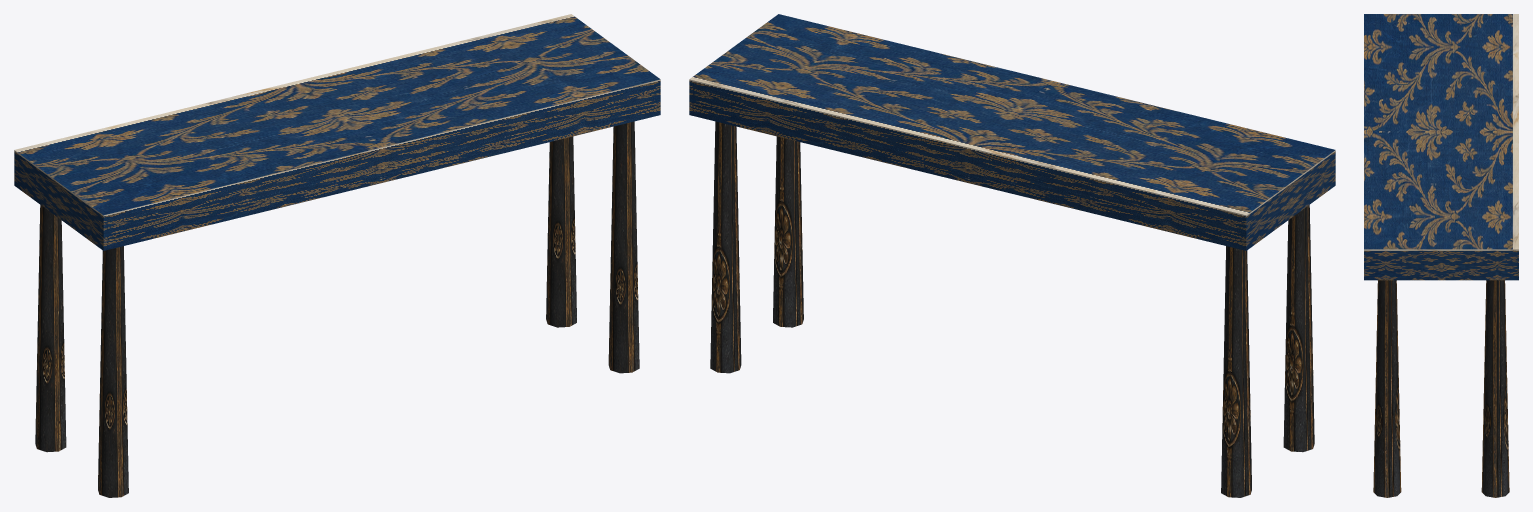
Rendered from console.gltf.
3 renders of one model, left to right at view 1: azimuth 30°, elevation 25°; view 2: azimuth 150°, elevation 25°; view 3: azimuth 270°, elevation 25°, orthographic. The views are drawn at different scales.
Visible parts, largest first — view 1: kit:0:furniture:marble:, kit:0:furniture:mahogany:; view 2: kit:0:furniture:marble:, kit:0:furniture:mahogany:; view 3: kit:0:furniture:marble:, kit:0:furniture:mahogany:.
Boxes of the visible parts, x1,y1,x2,y2 form: kit:0:furniture:marble:: (14,14,660,250); kit:0:furniture:mahogany:: (35,121,639,497); kit:0:furniture:marble:: (689,14,1335,250); kit:0:furniture:mahogany:: (710,121,1314,497); kit:0:furniture:marble:: (1364,14,1518,280); kit:0:furniture:mahogany:: (1373,280,1509,497).
Size of the model in its own units: 1.8 by 0.9 by 0.5.
2 materials, 2 textured.
